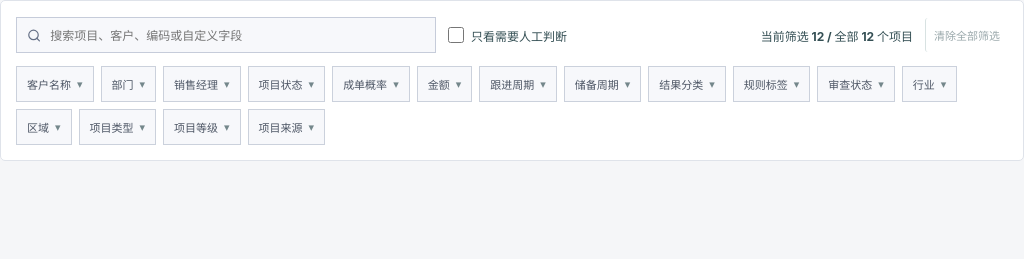
Test: AnalysisFilters › closes the active menu after applying a selection and keeps the active chip
Click the heading "部门" at (128,84), box [100, 66, 156, 102]
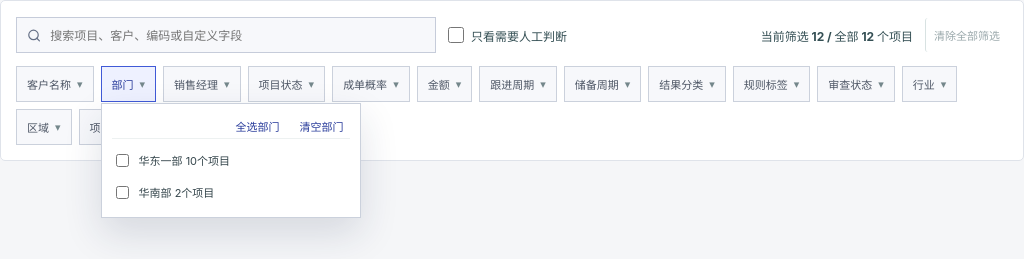
Expected: the text "部门" has attribute open, [100, 66, 156, 102]
Click the checkbox labelled "华东一部 10个项目" at (122,160), box [116, 154, 128, 166]
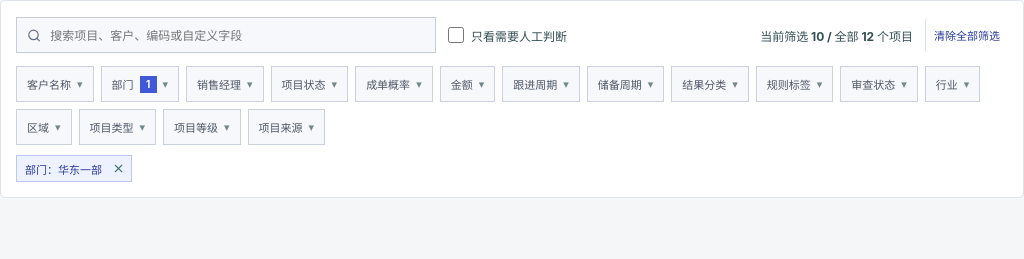
Expected: the text "部门：华东一部" is shown, [16, 155, 132, 182]
